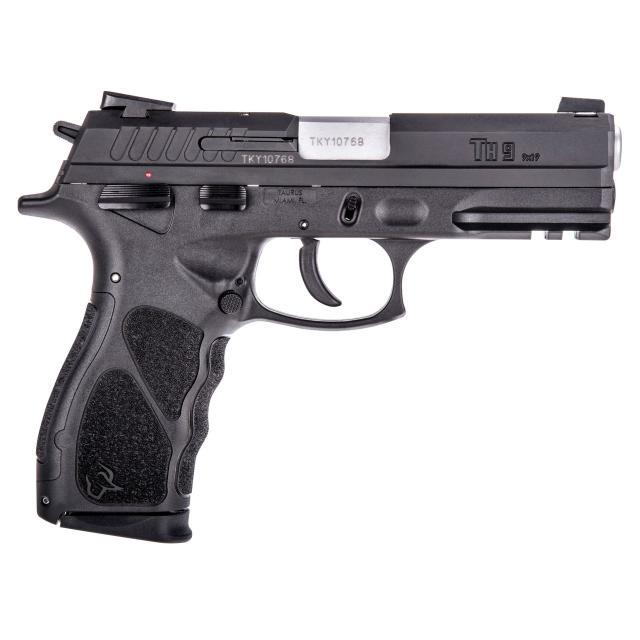Pistol: (7, 66, 640, 566)
